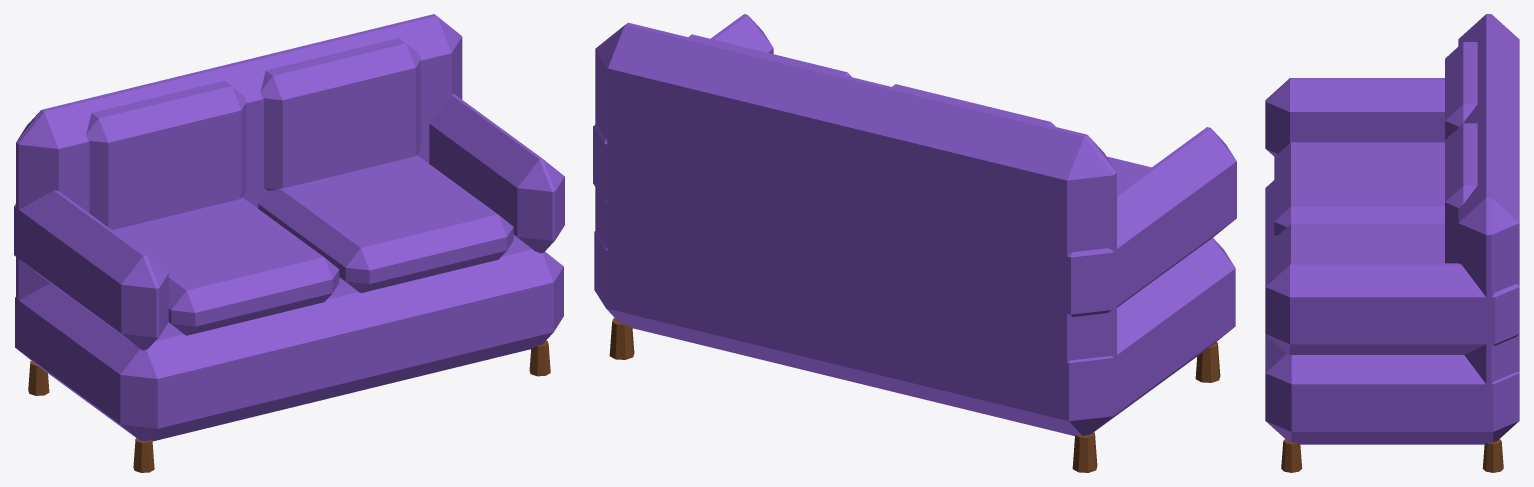
Rendered from PurpleSofa.fbx.
3 views of the same model, side by side, from view 1: azimuth 30°, elevation 25°; view 2: azimuth 150°, elevation 25°; view 3: azimuth 270°, elevation 25° (orthographic). The views are drawn at different scales.
Visible parts, largest first — view 1: PurpleSofa; view 2: PurpleSofa; view 3: PurpleSofa.
Boxes of the visible parts, <box> form: PurpleSofa: <box>14,14,564,472</box>; PurpleSofa: <box>593,14,1236,472</box>; PurpleSofa: <box>1265,14,1519,472</box>.
Size of the model in its own units: 5.6 by 3.4 by 2.9.
1 material, 1 textured.
